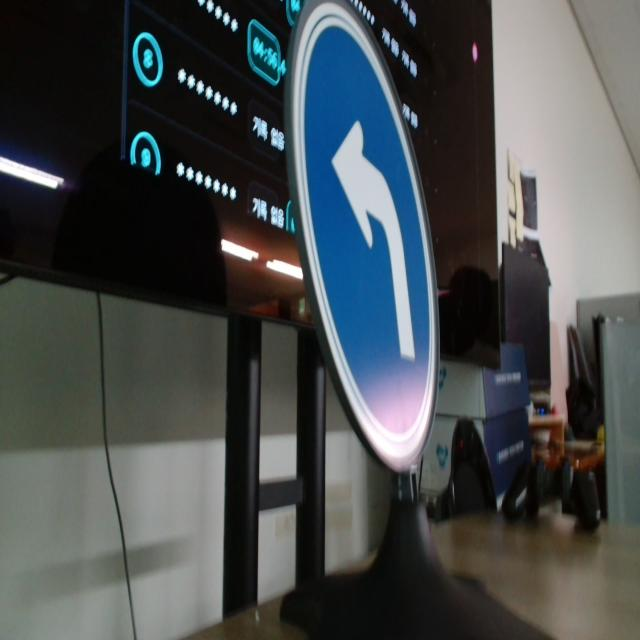left_direction: (275, 2, 446, 474)
